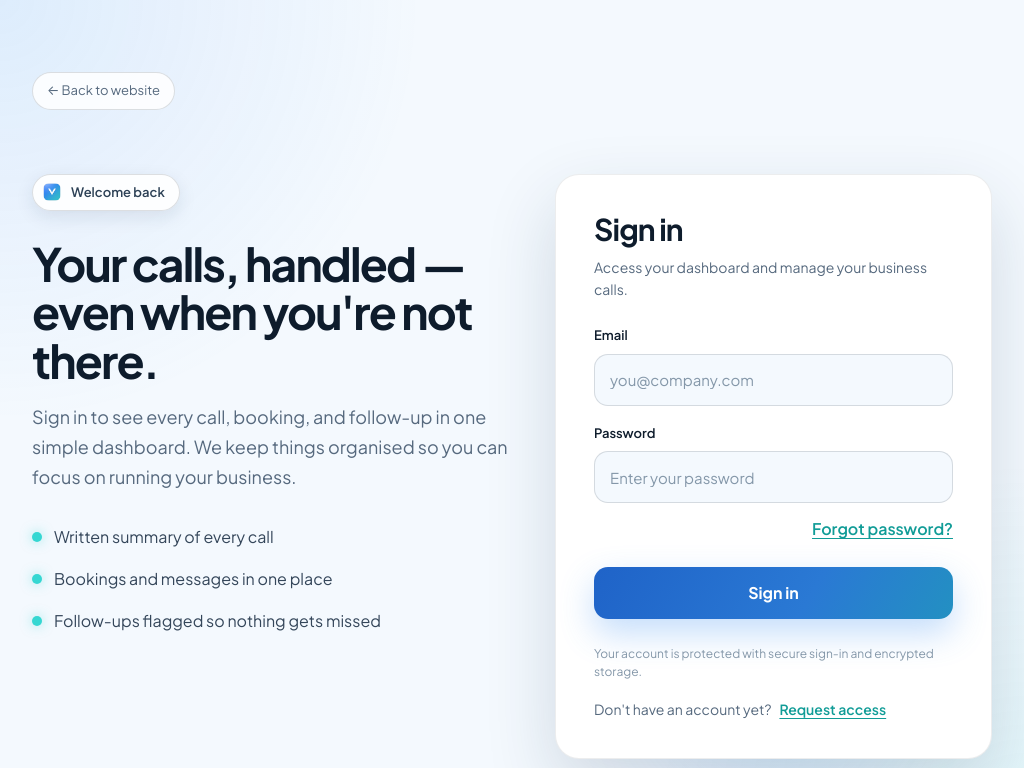
Test: Login › sends a reset with a continueUrl, and says the same thing either way
Type "staff@clinic.test" into the field labelled "Email" at (774, 380), box [594,354,953,406]
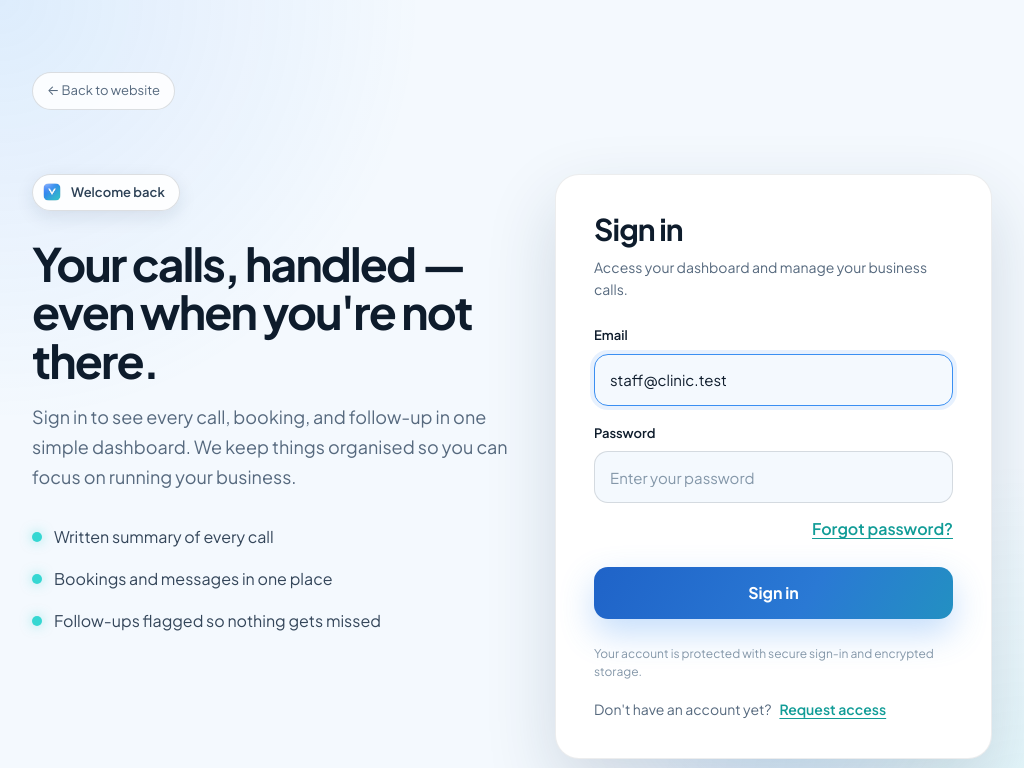
Click the button "Forgot password?" at (882, 529), box [812,517,953,541]
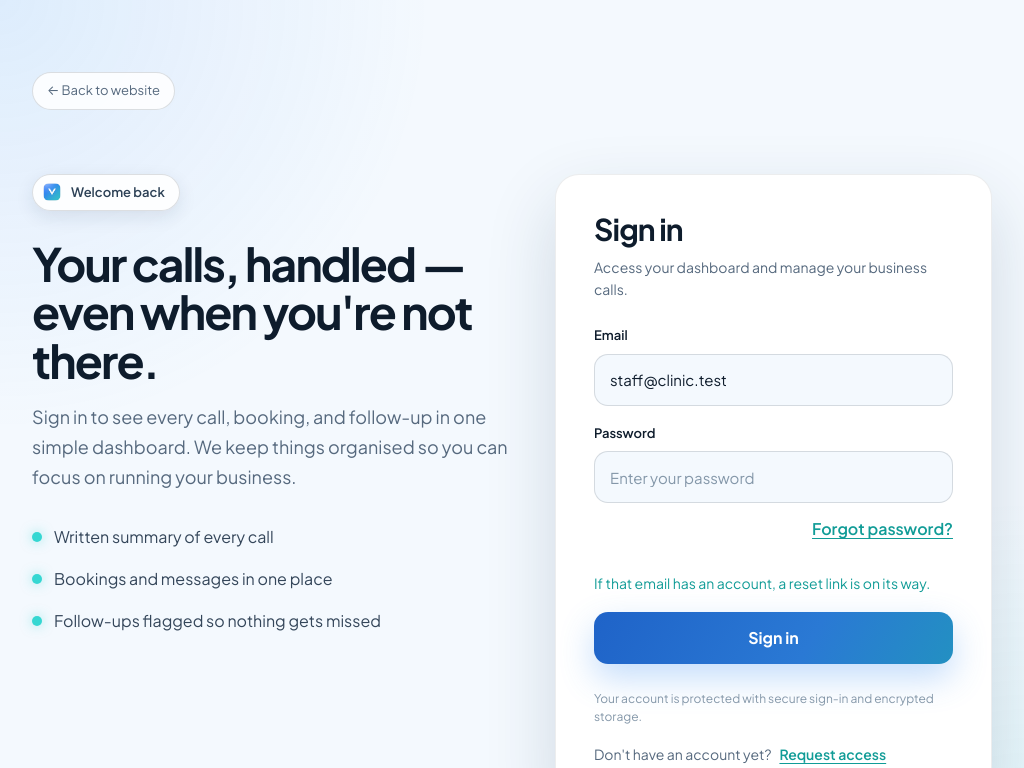
Expected: the text "If that email has an account, a reset link is on its way." is shown, [594,573,953,594]
